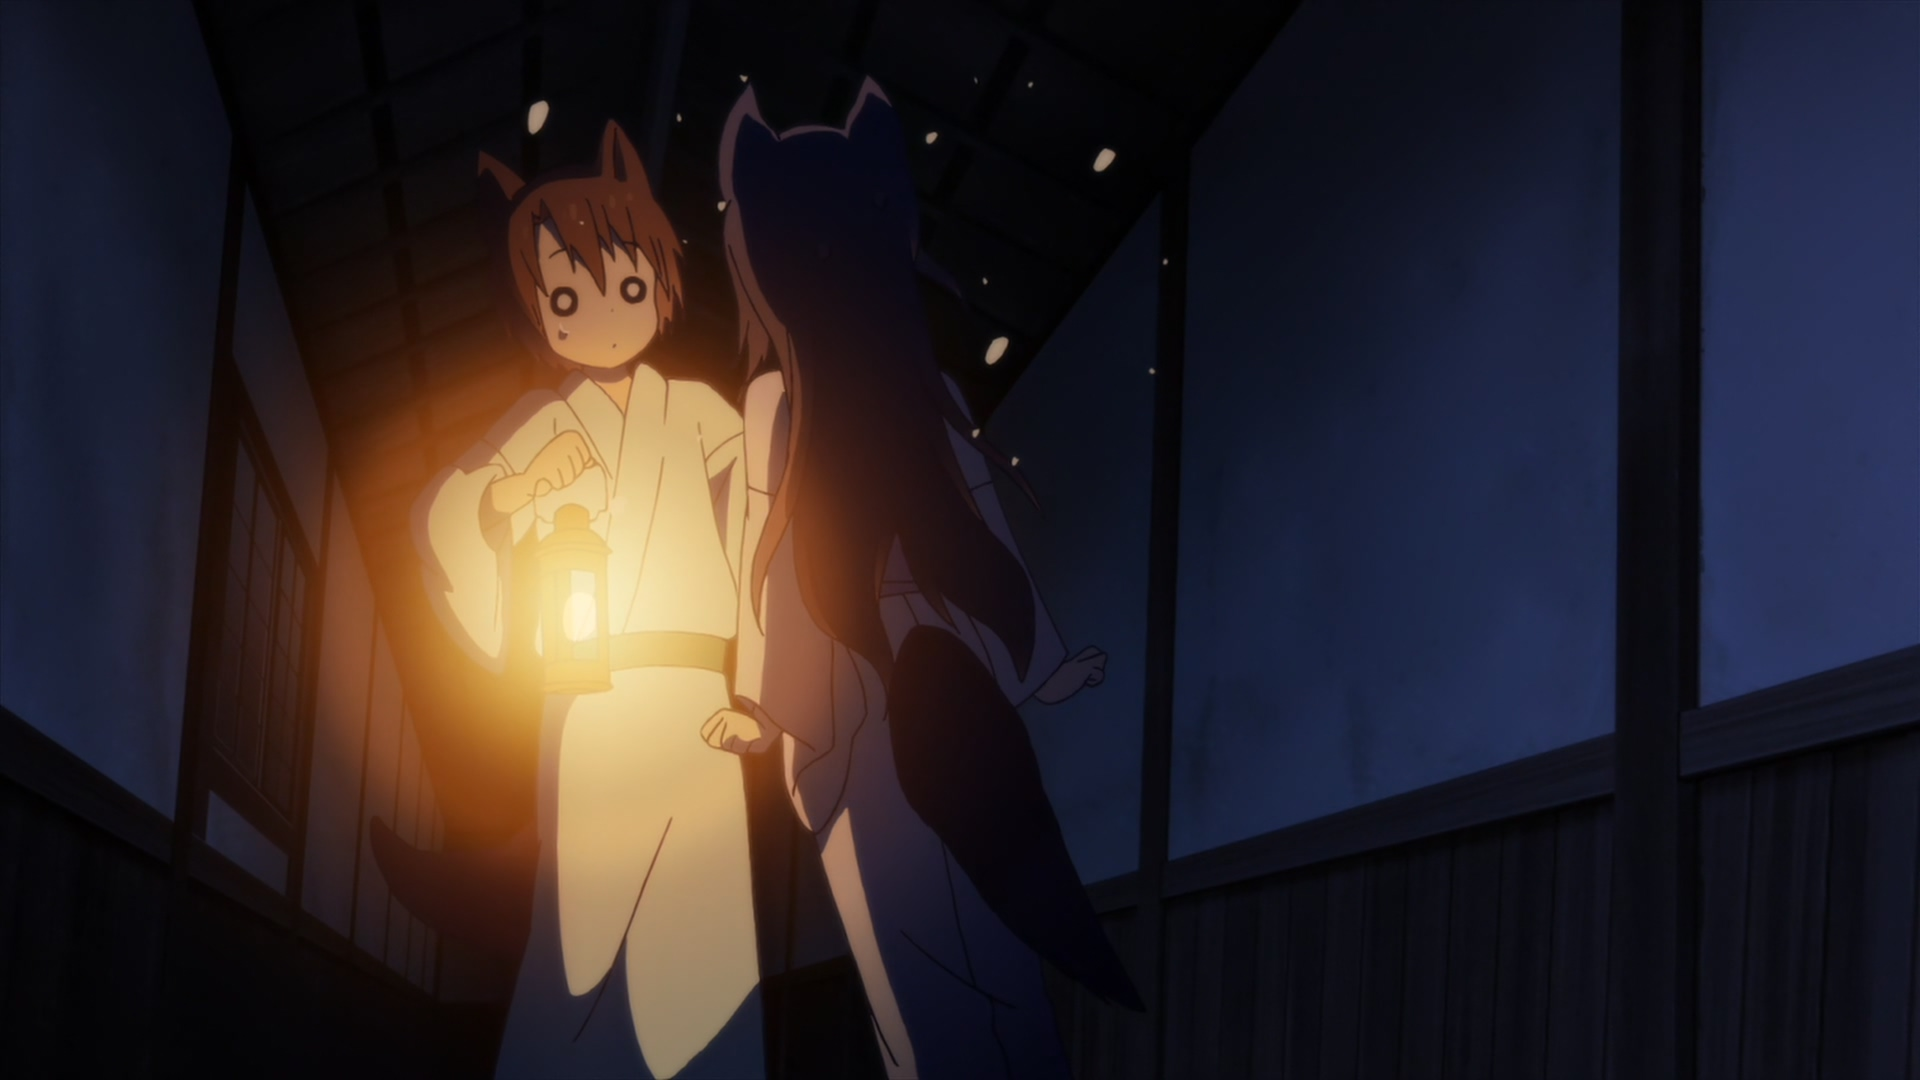枣: (407, 117, 769, 1080)
皋: (700, 80, 1149, 1080)
